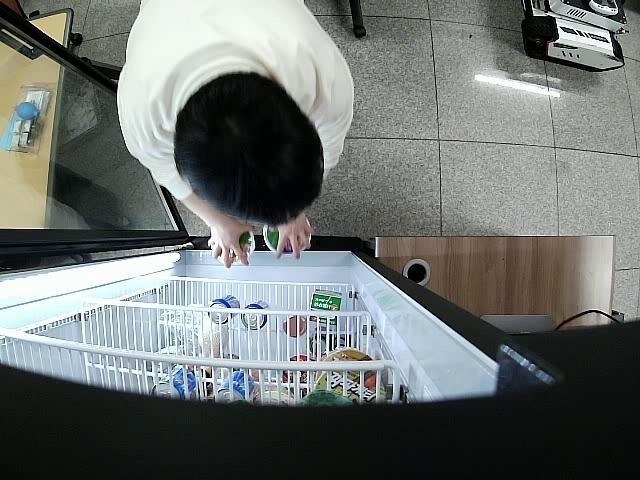09_yukGaeJang: (264, 218, 312, 258), (212, 228, 255, 266)
